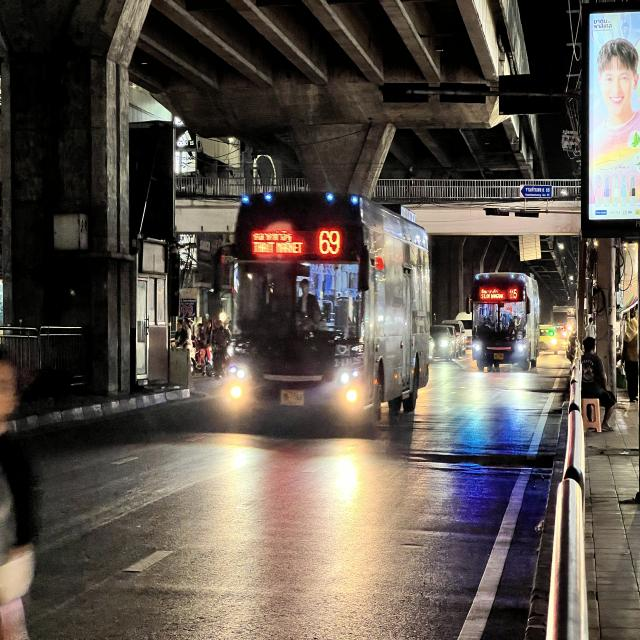Bus-Line-Number: (313, 225, 347, 258), (509, 288, 518, 300)
Destination-Sign-Normal: (250, 227, 304, 255), (479, 287, 506, 300)
TSB-Bus: (215, 191, 430, 439), (472, 272, 541, 374)
